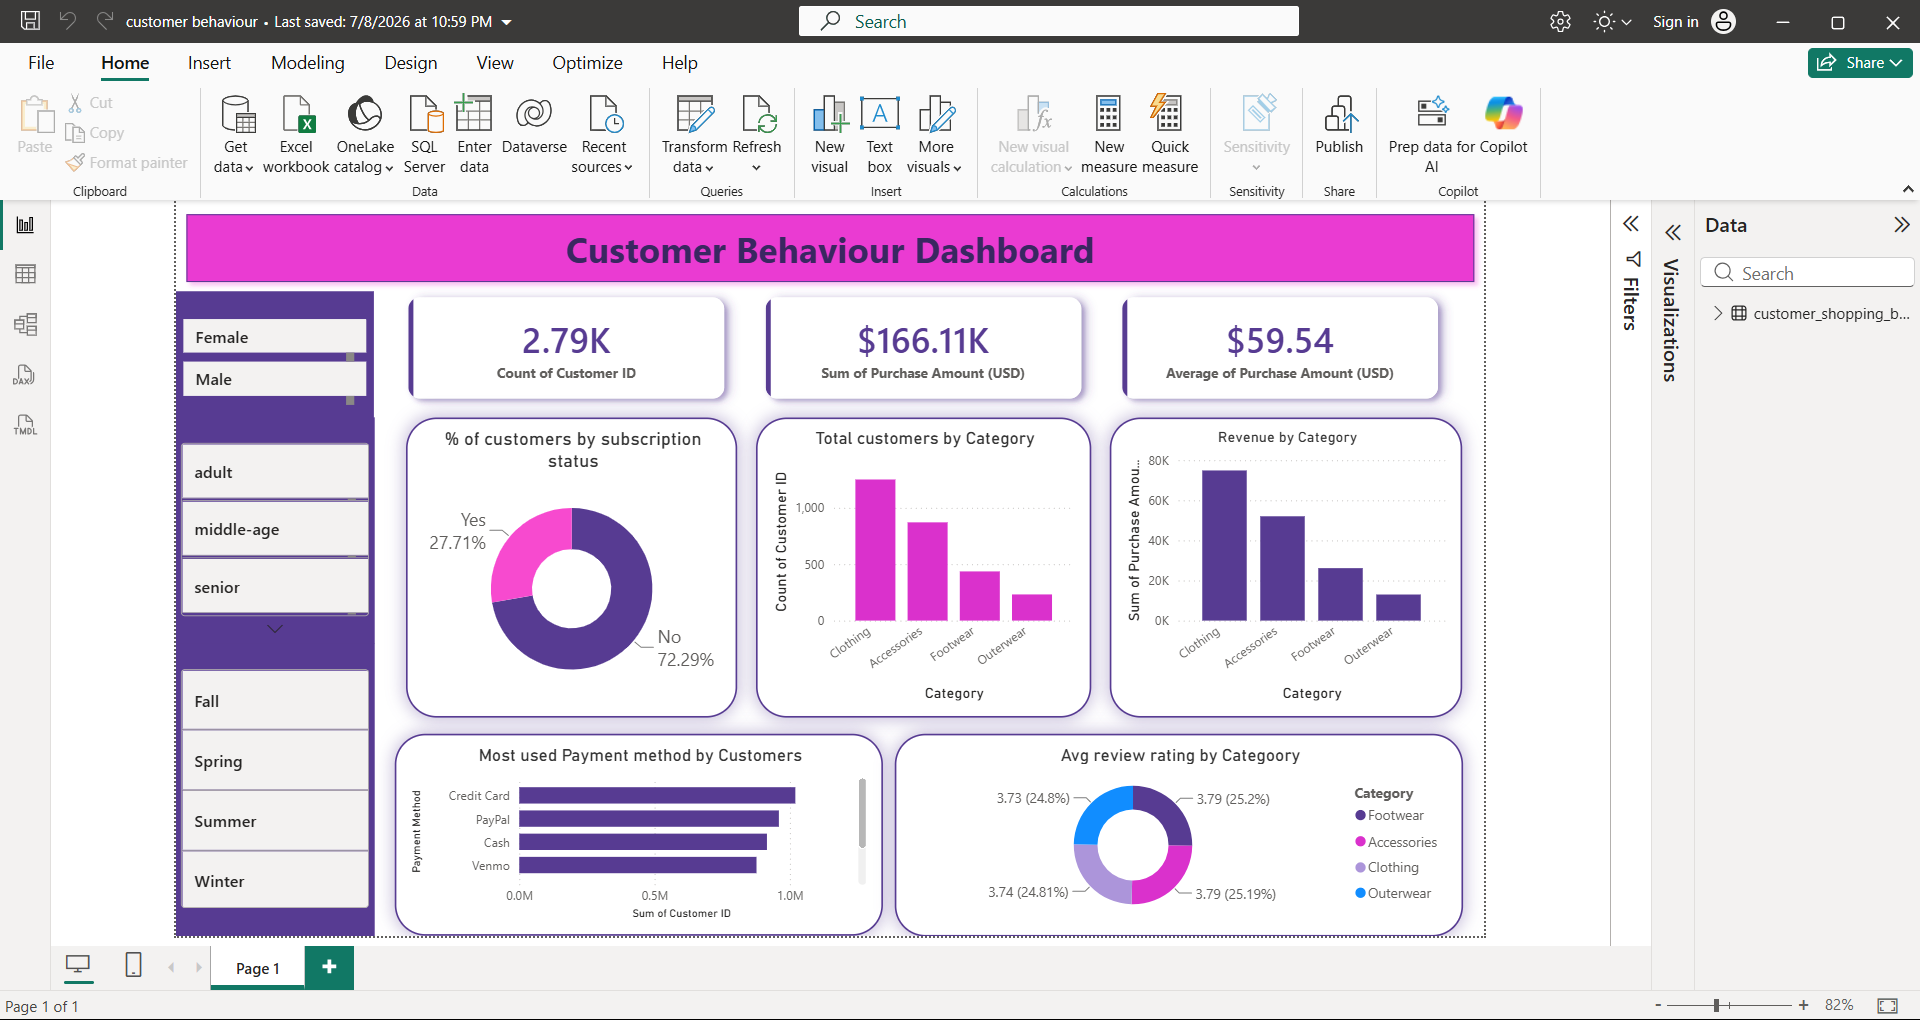

Layout of this report page (visuals, bound fields, positions):
{"tool":"powerbi","page":{"name":"Page 1","canvas":[1280,720],"ordinal":0},"visuals":[{"type":"cardVisual","fields":{"Data":["CountNonNull(customer_shopping_behaviour customercustomers_shopping.Customer ID)","Sum(customer_shopping_behaviour customercustomers_shopping.Purchase Amount (USD))","Avg(customer_shopping_behaviour customercustomers_shopping.Purchase Amount (USD))"]},"box":[194.4,62.4,1073.6,165.1],"z":0},{"type":"donutChart","title":"% of customers by subscription status","fields":{"Category":["customer_shopping_behaviour customercustomers_shopping.Subscription Status"],"Y":["CountNonNull(customer_shopping_behaviour customercustomers_shopping.Customer ID)"]},"box":[225,212.8,324.1,293.5],"z":1000},{"type":"columnChart","title":"Revenue by Category","fields":{"Category":["customer_shopping_behaviour customercustomers_shopping.Category"],"Y":["Sum(customer_shopping_behaviour customercustomers_shopping.Purchase Amount (USD))"]},"box":[913.5,212.8,344.8,293.5],"z":2000},{"type":"columnChart","title":"Total customers by Category","fields":{"Category":["customer_shopping_behaviour customercustomers_shopping.Category"],"Y":["Count(customer_shopping_behaviour customercustomers_shopping.Customer ID)"]},"box":[567.4,212.8,327.7,293.5],"z":3000},{"type":"cardVisual","fields":{"Rows":["customer_shopping_behaviour customercustomers_shopping.age_group"]},"box":[0,212.8,194.4,221.3],"z":4000},{"type":"cardVisual","fields":{"Rows":["customer_shopping_behaviour customercustomers_shopping.Season"]},"box":[0,434.1,194.4,286.1],"z":5000},{"type":"shape","box":[1.2,4.9,1277.9,84.4],"z":6000},{"type":"cardVisual","fields":{"Rows":["customer_shopping_behaviour customercustomers_shopping.Gender"]},"box":[0,89.3,193.2,138.2],"z":7000},{"type":"barChart","title":"Most used Payment method by Customers","fields":{"Category":["customer_shopping_behaviour customercustomers_shopping.Payment Method"],"Y":["Sum(customer_shopping_behaviour customercustomers_shopping.Customer ID)"]},"box":[213.8,522.5,477.5,197.5],"z":8000},{"type":"donutChart","title":"Avg review rating by Categoory","fields":{"Category":["customer_shopping_behaviour customercustomers_shopping.Category"],"Y":["Avg(customer_shopping_behaviour customercustomers_shopping.Review Rating)"]},"box":[702.7,521.9,556.2,198.6],"z":9000}]}

Visuals, with their boxes on the page's 1280x720 design canvas (x1, y1, x2, y2). These are canvas units, not pixel positions in the 1920x1020 screenshot, which may show the page scaled, cropped or inside an application window:
cardVisual - CountNonNull(customer_shopping_behaviour customercustomers_shopping.Customer ID) x Sum(customer_shopping_behaviour customercustomers_shopping.Purchase Amount (USD)): 194:62:1268:228
"% of customers by subscription status" donutChart: 225:213:549:506
"Revenue by Category" columnChart: 914:213:1258:506
"Total customers by Category" columnChart: 567:213:895:506
cardVisual - customer_shopping_behaviour customercustomers_shopping.age_group: 0:213:194:434
cardVisual - customer_shopping_behaviour customercustomers_shopping.Season: 0:434:194:720
shape: 1:5:1279:89
cardVisual - customer_shopping_behaviour customercustomers_shopping.Gender: 0:89:193:228
"Most used Payment method by Customers" barChart: 214:522:691:720
"Avg review rating by Categoory" donutChart: 703:522:1259:720
